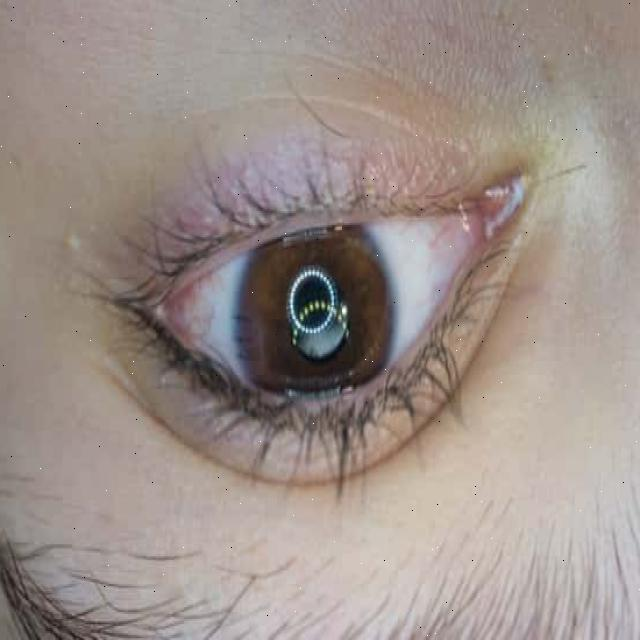Normal: (234, 210, 396, 430)
